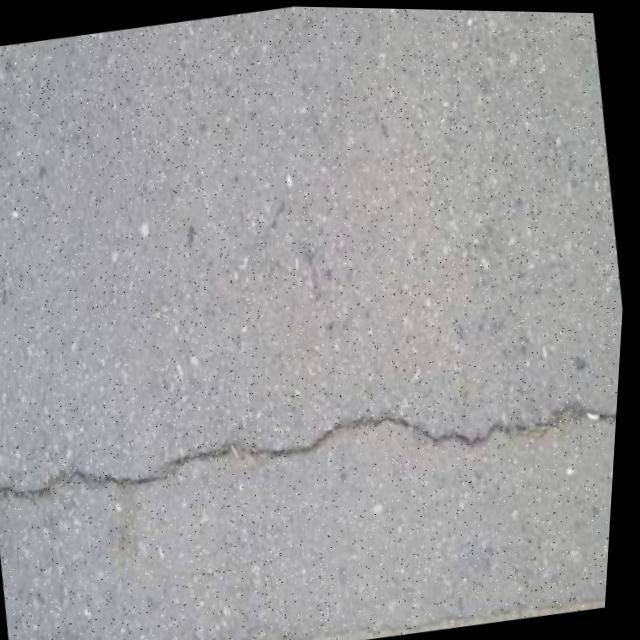Crack: (0, 356, 623, 549)
